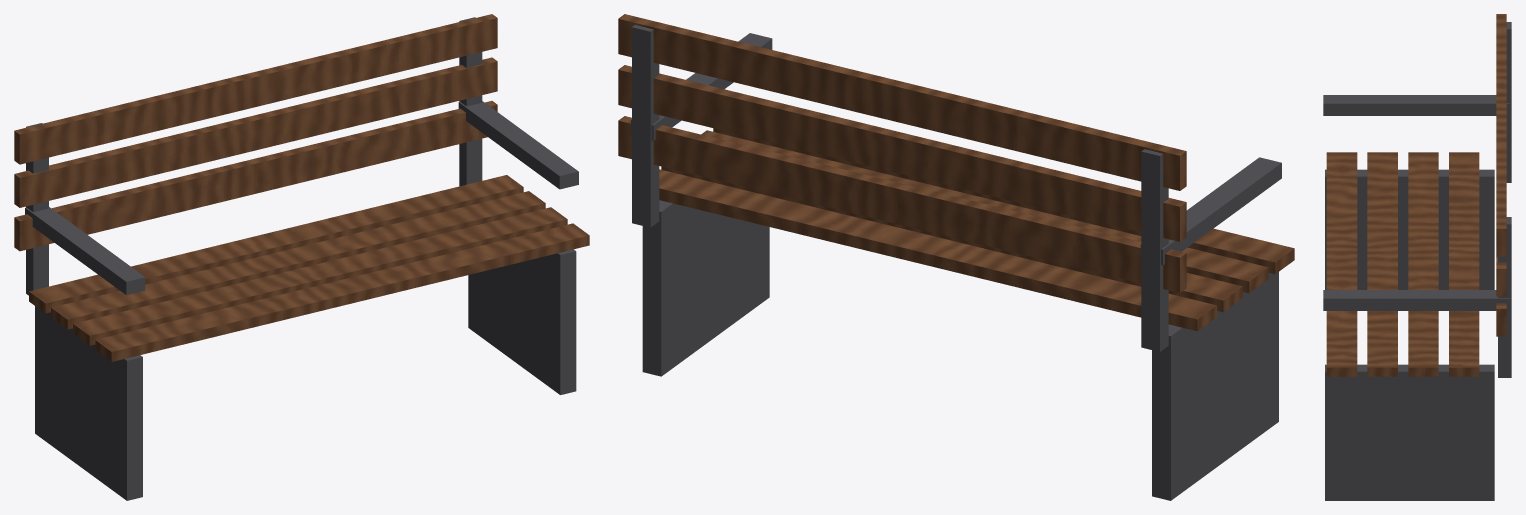
3 renders of one model, left to right at view 1: azimuth 30°, elevation 25°; view 2: azimuth 150°, elevation 25°; view 3: azimuth 270°, elevation 25°, orthographic. The views are drawn at different scales.
Visible parts, largest first — view 1: Decor_garden_bench; view 2: Decor_garden_bench; view 3: Decor_garden_bench.
Part boxes in pixels (x1,y1,x2,y2): Decor_garden_bench: (14,14,589,500); Decor_garden_bench: (618,14,1294,500); Decor_garden_bench: (1323,14,1511,500).
Size of the model in its own units: 1.5 by 0.905 by 0.555.
Materials: 2 (1 with a texture image).
